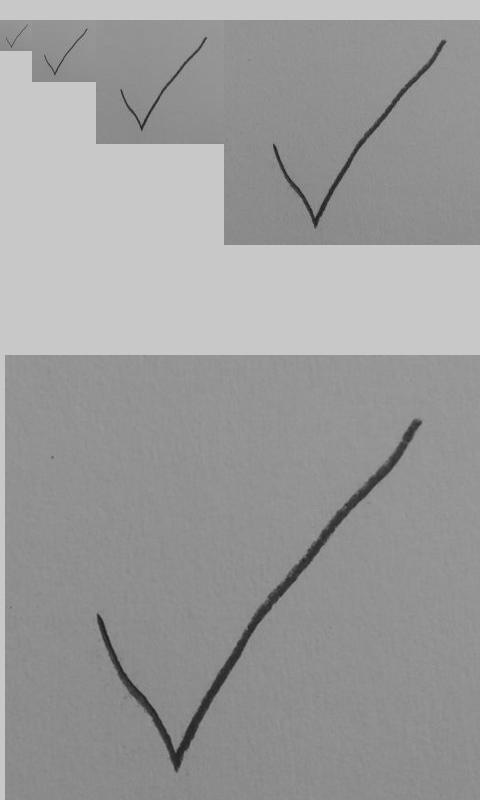check_box: (94, 419, 422, 772), (273, 40, 446, 228), (119, 37, 207, 131), (43, 28, 88, 75), (5, 24, 28, 48)
